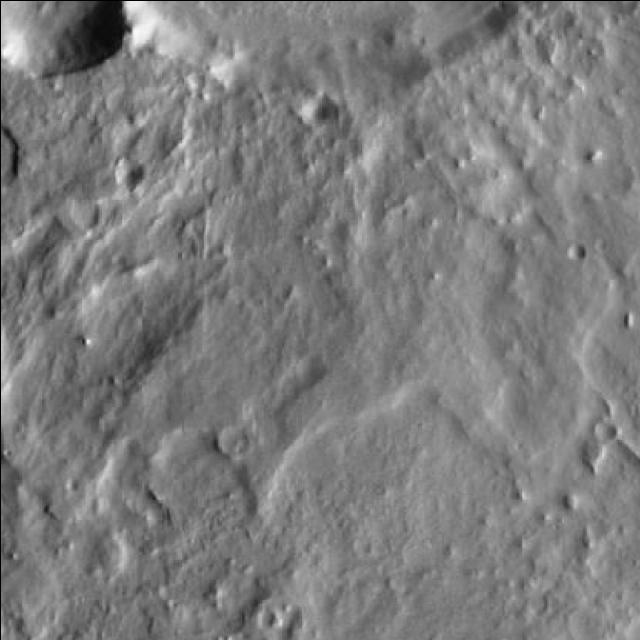crater: (119, 3, 521, 92), (0, 0, 118, 77)
